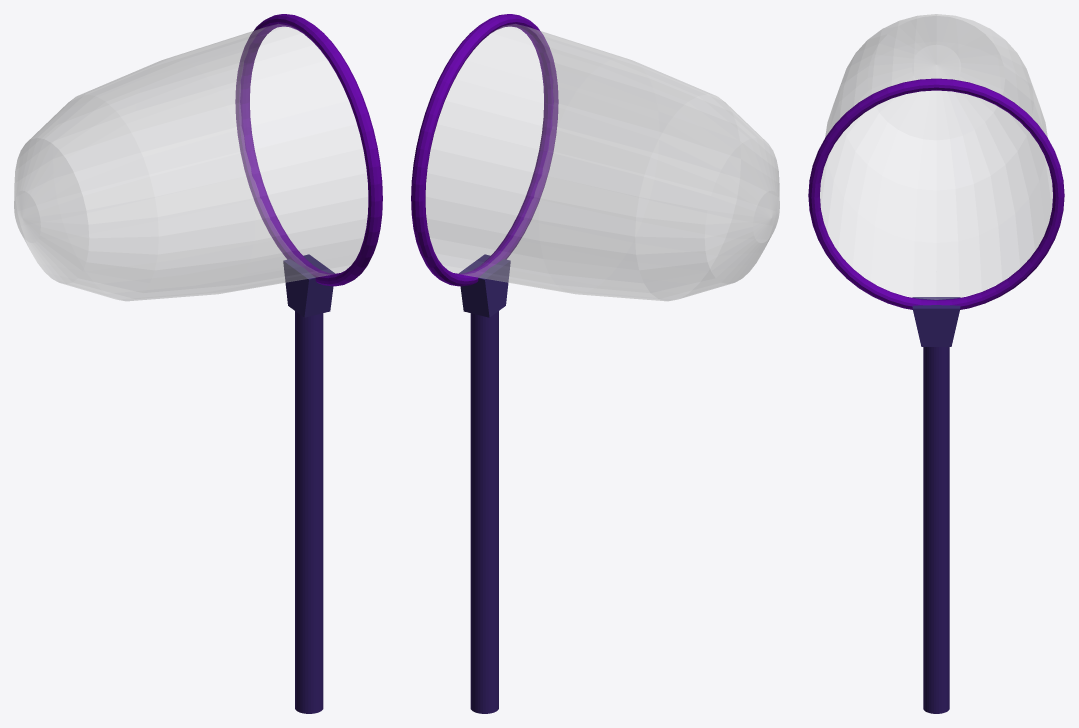
The model's file is Witch_Weapon.fbx.
3 renders of one model, left to right at view 1: azimuth 30°, elevation 25°; view 2: azimuth 150°, elevation 25°; view 3: azimuth 270°, elevation 25°, orthographic. The views are drawn at different scales.
Parts seen in each view (by area): view 1: 立方体; view 2: 立方体; view 3: 立方体.
Boxes of the visible parts, bbox=[...] form: 立方体: bbox=[14, 14, 382, 713]; 立方体: bbox=[411, 14, 779, 713]; 立方体: bbox=[808, 14, 1064, 713].
Size of the model in its own units: 400 by 872 by 322.
